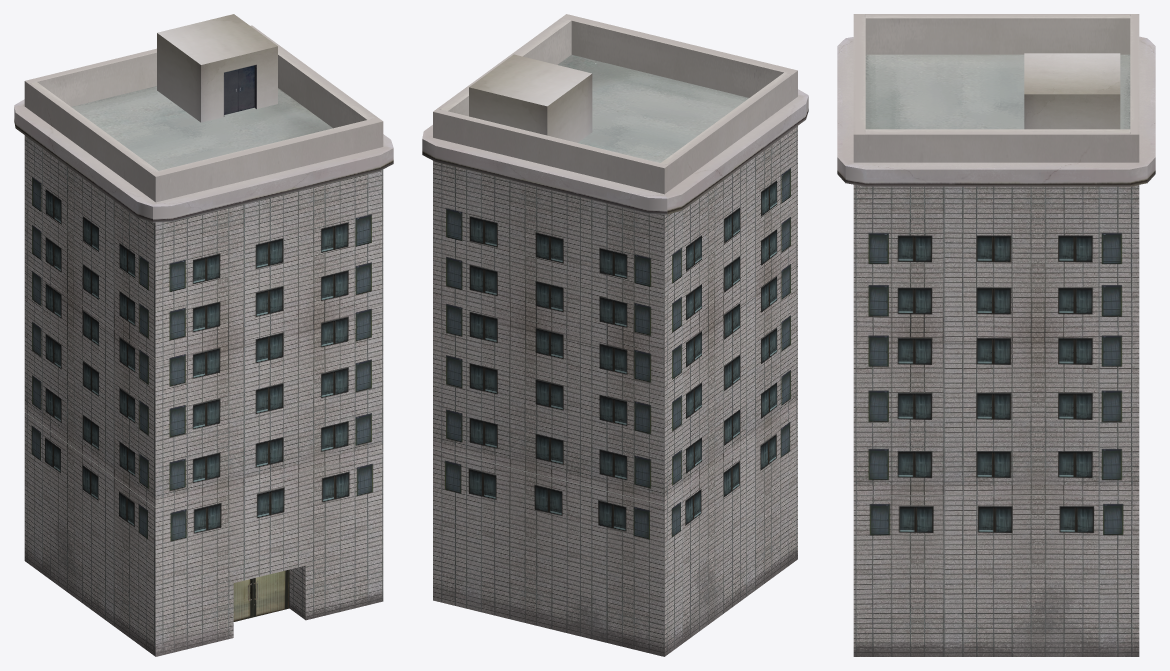
File: bill.1.fbx
3 views of the same model, side by side, from view 1: azimuth 30°, elevation 25°; view 2: azimuth 150°, elevation 25°; view 3: azimuth 270°, elevation 25° (orthographic). The views are drawn at different scales.
Parts seen in each view (by area): view 1: pCube3, pCube2, pCube1; view 2: pCube3, pCube1, pCube2; view 3: pCube3, pCube1, pCube2.
Part boxes in pixels (x1,y1,x2,y2): pCube3: (14,14,393,358); pCube2: (24,263,383,507); pCube1: (24,412,383,656); pCube3: (422,14,808,353); pCube1: (433,408,797,656); pCube2: (433,256,797,504); pCube3: (837,14,1155,332); pCube1: (853,495,1139,656); pCube2: (853,333,1139,494).
Size of the model in its own units: 892 by 1694 by 891.
